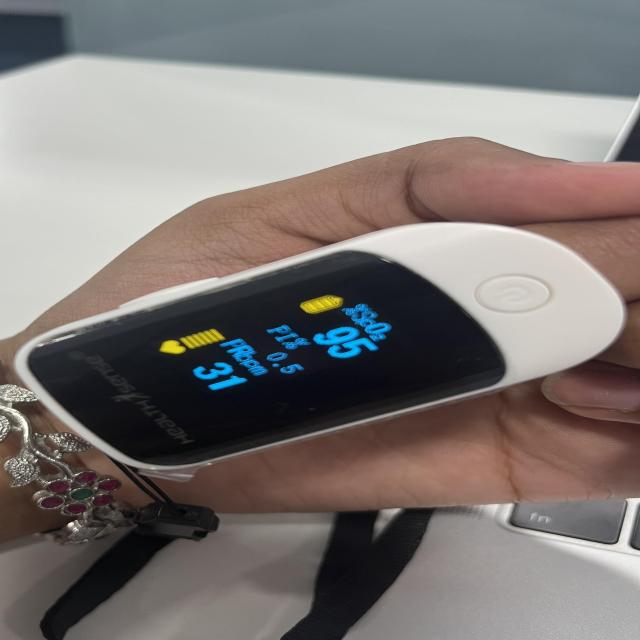spo2: (12, 222, 629, 506)
